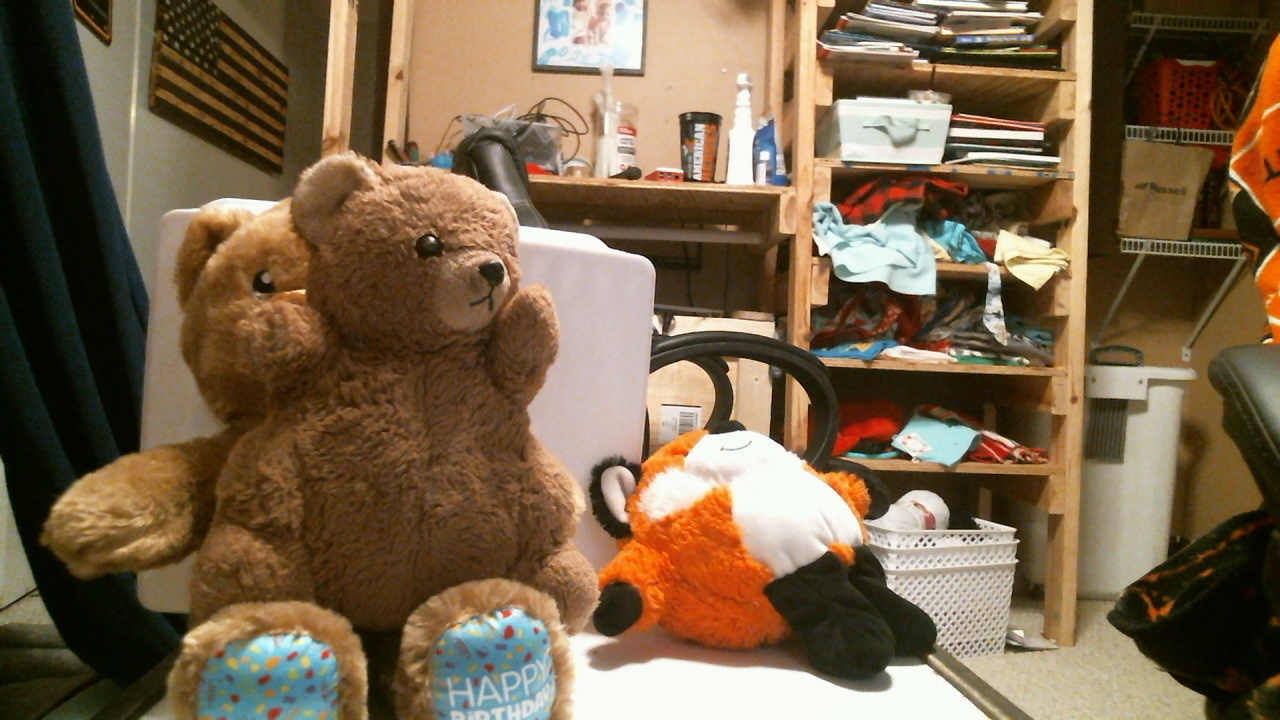Little_Mister_Bear: (407, 239, 522, 343)
